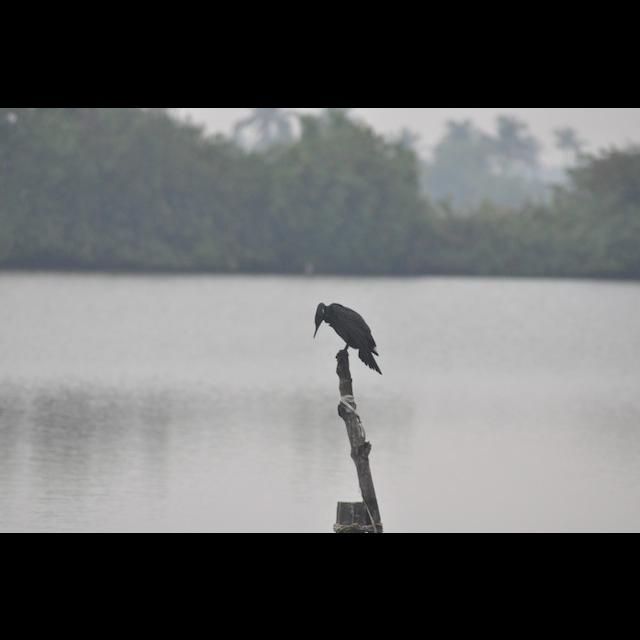cormorant: (313, 298, 383, 377)
